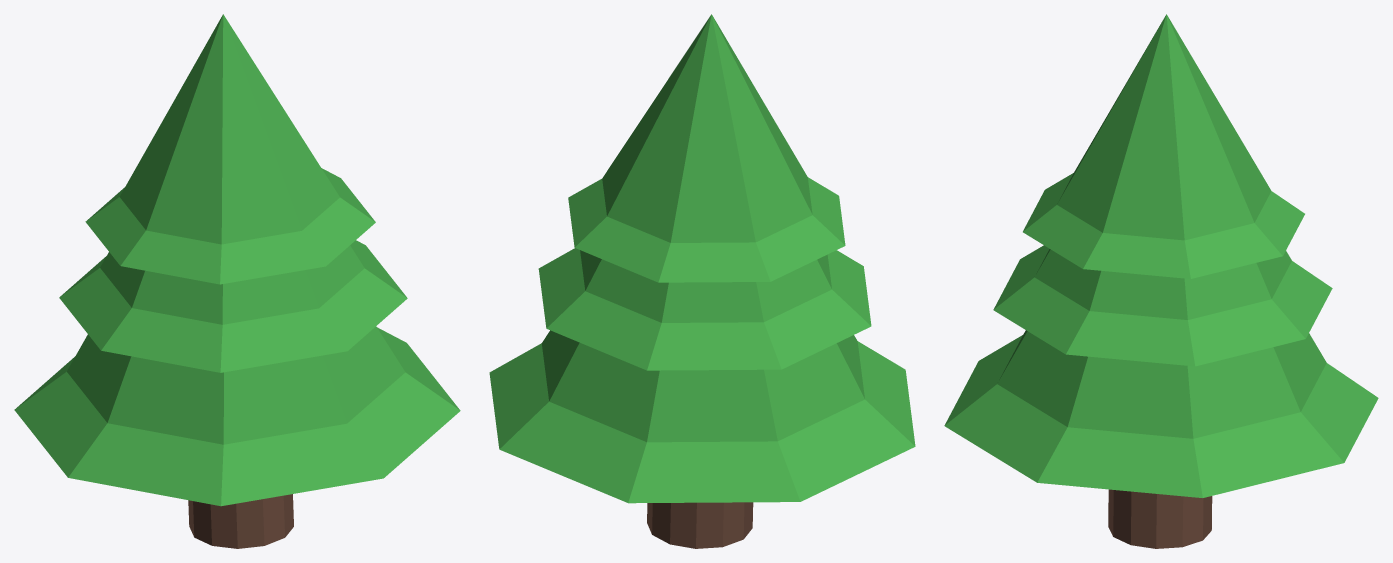
File: tree_13_mesh2102696020.glb
The picture shows the model from 3 angles, left to right: view 1: azimuth 30°, elevation 25°; view 2: azimuth 150°, elevation 25°; view 3: azimuth 270°, elevation 25°; orthographic projection. The views are drawn at different scales.
Parts seen in each view (by area): view 1: part_1_mesh2102696020, part_2_mesh2102696020_1; view 2: part_1_mesh2102696020, part_2_mesh2102696020_1; view 3: part_1_mesh2102696020, part_2_mesh2102696020_1.
Part boxes in pixels (<box>): part_1_mesh2102696020: <box>14,14,460,506</box>; part_2_mesh2102696020_1: <box>188,494,293,548</box>; part_1_mesh2102696020: <box>489,14,915,503</box>; part_2_mesh2102696020_1: <box>647,502,753,548</box>; part_1_mesh2102696020: <box>944,14,1378,497</box>; part_2_mesh2102696020_1: <box>1108,489,1212,548</box>.
Size of the model in its own units: 0.2385 by 0.3083 by 0.2386.
